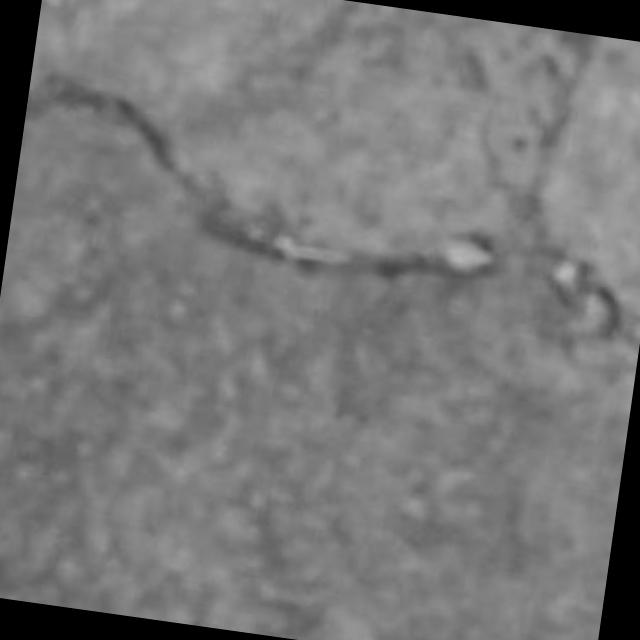crack: (25, 73, 494, 279)
